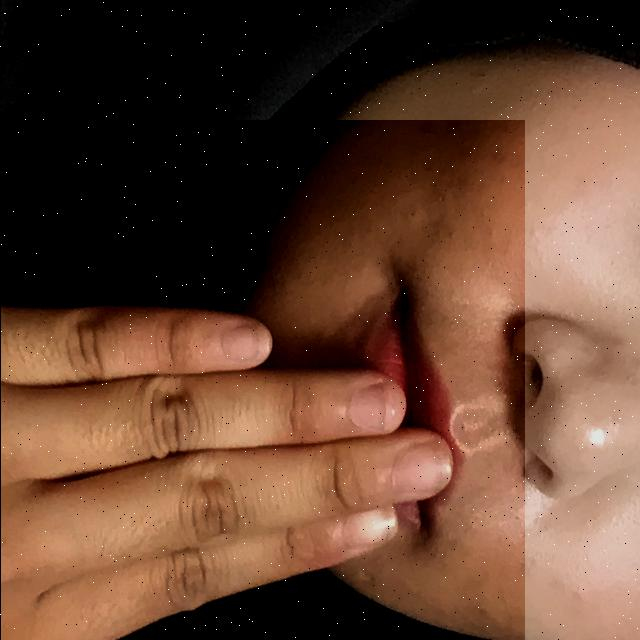ganteng: (0, 120, 524, 640)
